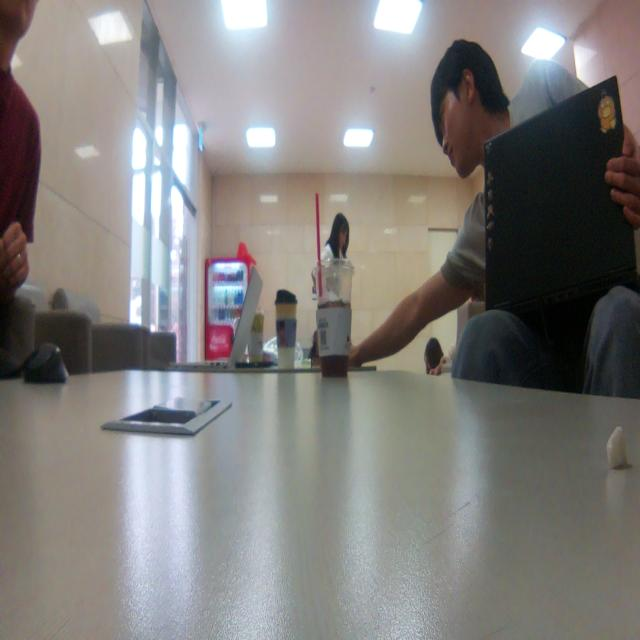target: (311, 330, 319, 364)
